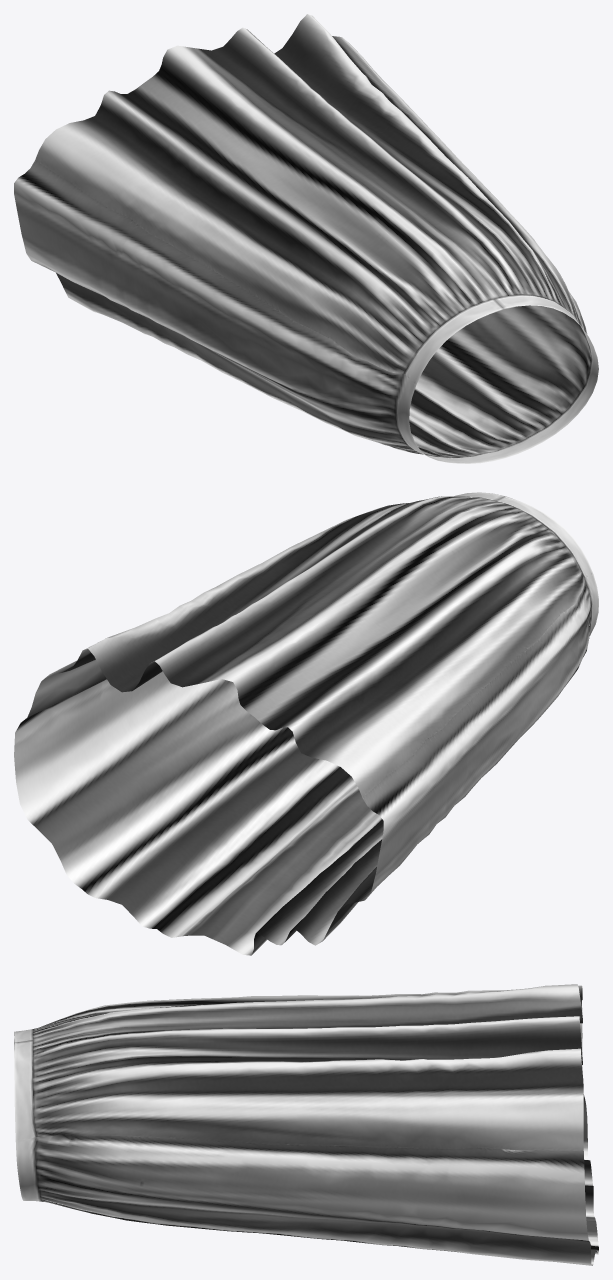
The model's file is garment.obj.
3 renders of one model, top to bottom at view 1: azimuth 30°, elevation 25°; view 2: azimuth 150°, elevation 25°; view 3: azimuth 270°, elevation 25°, orthographic. The views are drawn at different scales.
Visible parts, largest first — view 1: Skirt_DressEvening_003; view 2: Skirt_DressEvening_003; view 3: Skirt_DressEvening_003.
Part boxes in pixels (<box>): Skirt_DressEvening_003: <box>14,14,598,463</box>; Skirt_DressEvening_003: <box>14,492,598,955</box>; Skirt_DressEvening_003: <box>14,984,598,1265</box>.
Size of the model in its own units: 0.8019 by 0.5503 by 1.2.
1 material, 1 textured.
